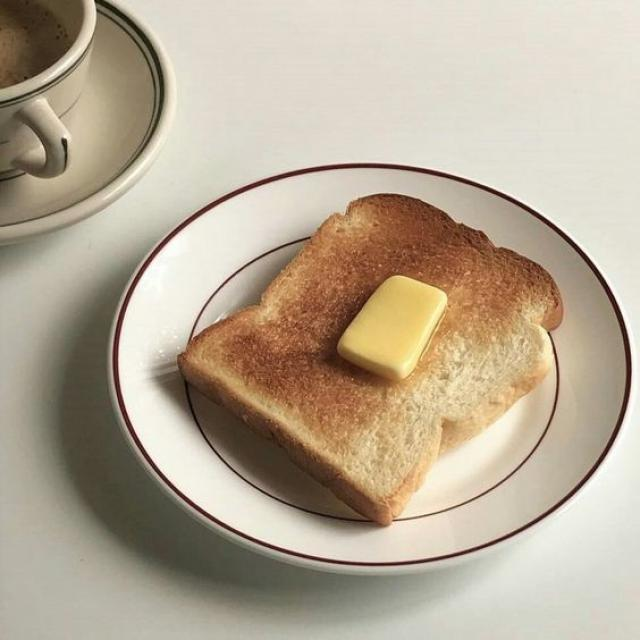toast bread: (178, 194, 562, 524)
